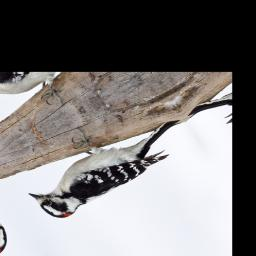Woodpecker: (7, 85, 200, 230)
